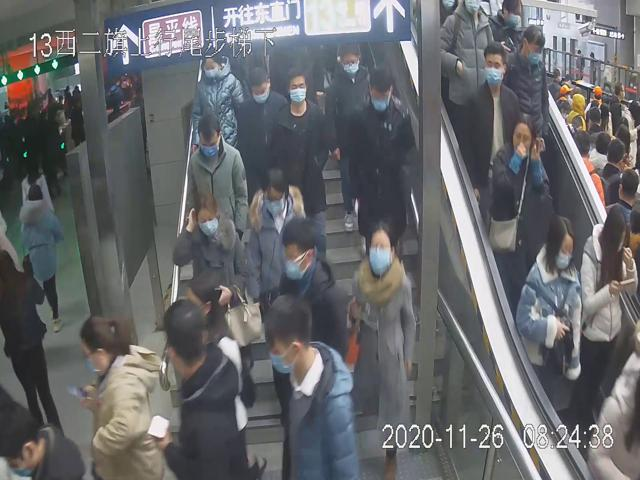person: (261, 291, 361, 480), (349, 218, 414, 480), (517, 212, 585, 424), (343, 63, 414, 245), (169, 186, 248, 331), (279, 216, 349, 367), (489, 106, 549, 281), (461, 40, 522, 212), (245, 162, 308, 316), (273, 68, 329, 231), (185, 106, 245, 247), (185, 45, 243, 154), (324, 40, 374, 165), (241, 60, 289, 172)
